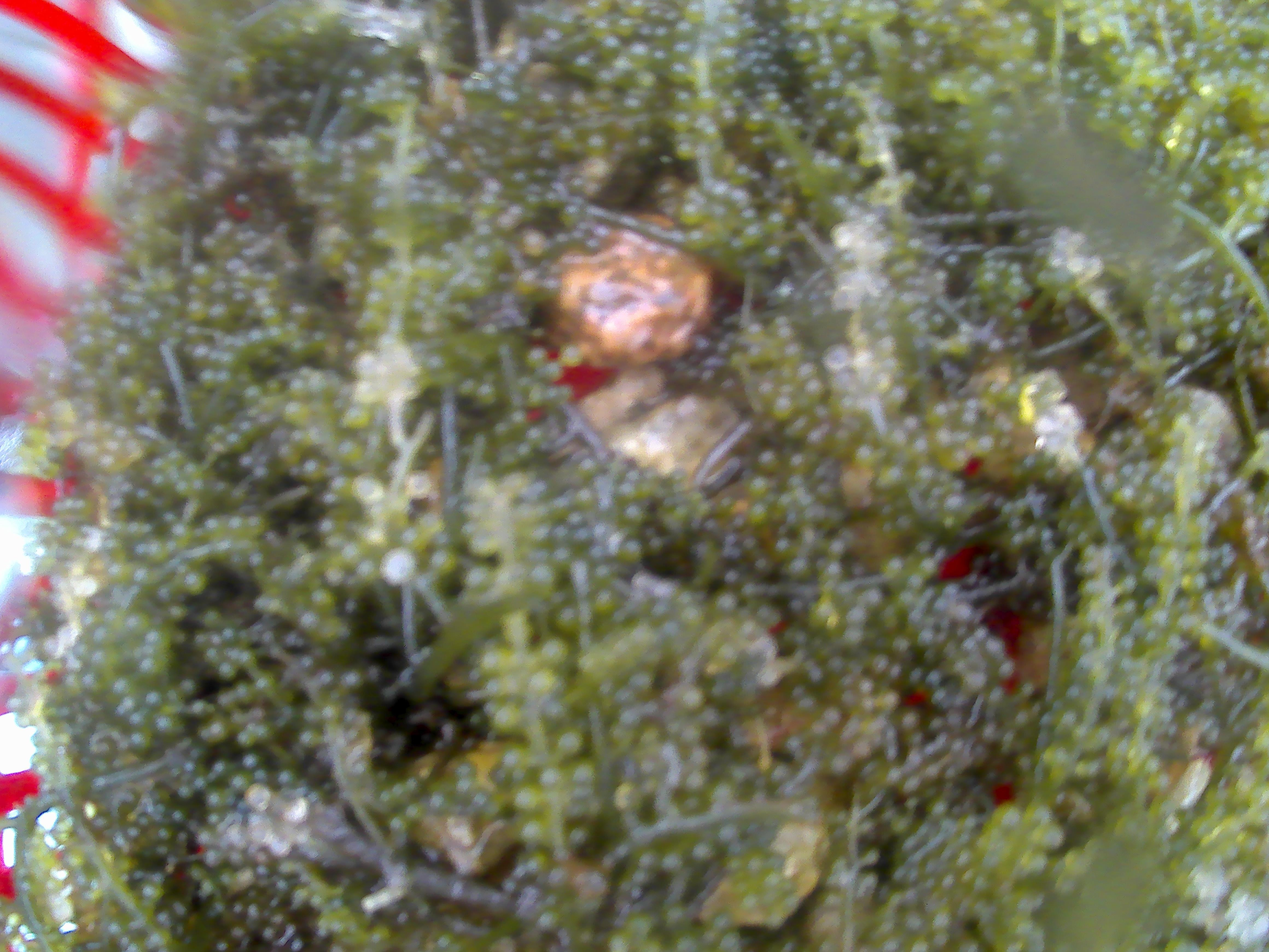Darkening: (894, 512, 918, 537), (698, 706, 722, 730), (929, 929, 951, 950), (890, 635, 911, 655), (869, 655, 888, 675), (898, 711, 919, 729), (857, 676, 875, 695), (948, 709, 961, 730), (982, 723, 998, 739), (724, 569, 739, 584), (929, 716, 941, 731)
Harvestable: (510, 780, 545, 813), (552, 724, 585, 757), (490, 702, 522, 735), (539, 634, 571, 666), (991, 802, 1023, 832), (1038, 821, 1066, 850), (569, 757, 598, 785), (876, 463, 905, 490), (284, 400, 311, 427), (662, 903, 690, 929), (466, 564, 494, 590), (430, 549, 458, 575), (660, 845, 686, 872), (203, 718, 230, 744), (125, 609, 151, 635), (1133, 515, 1159, 541), (555, 606, 580, 632), (680, 686, 706, 711), (629, 668, 655, 693), (744, 849, 769, 874), (902, 909, 927, 934), (340, 542, 365, 567), (711, 779, 736, 804), (680, 604, 705, 628), (530, 563, 556, 586), (538, 908, 562, 932), (668, 62, 692, 86), (184, 571, 208, 595), (684, 770, 708, 794), (714, 591, 738, 614), (358, 558, 381, 582), (1078, 24, 1102, 47), (638, 846, 661, 870), (692, 840, 715, 863), (747, 502, 770, 525), (719, 930, 743, 952), (89, 647, 111, 671), (540, 765, 564, 787), (312, 587, 335, 609), (697, 88, 719, 111), (971, 184, 993, 206), (341, 668, 363, 690), (1111, 55, 1133, 77), (787, 558, 809, 580), (150, 927, 173, 948), (1114, 486, 1137, 507), (1176, 332, 1198, 353), (202, 608, 223, 630), (404, 802, 426, 823), (569, 825, 591, 846), (712, 911, 734, 932), (619, 707, 641, 728), (187, 299, 208, 321), (956, 847, 977, 869), (718, 822, 739, 843), (629, 42, 650, 63), (614, 685, 635, 706), (973, 873, 993, 895), (622, 540, 642, 562), (843, 626, 864, 646), (636, 69, 657, 89), (624, 504, 644, 525), (725, 855, 747, 874), (1115, 103, 1135, 123), (509, 409, 529, 429), (676, 141, 696, 161), (92, 626, 112, 646), (826, 655, 846, 675), (326, 565, 345, 586), (862, 0, 882, 19), (575, 488, 594, 508), (218, 661, 237, 680), (916, 628, 935, 647), (686, 0, 706, 18), (676, 20, 694, 39), (662, 620, 681, 638), (594, 564, 612, 583), (632, 868, 651, 886), (627, 0, 647, 17), (673, 40, 693, 57), (179, 678, 197, 696), (204, 647, 222, 665), (806, 378, 824, 396), (301, 611, 319, 629), (1102, 472, 1119, 490), (290, 378, 307, 396), (804, 15, 821, 32), (476, 222, 493, 238), (1065, 69, 1082, 85), (603, 34, 620, 50), (295, 135, 311, 152), (913, 31, 929, 47), (145, 691, 161, 706), (178, 783, 193, 799), (243, 754, 258, 768), (845, 0, 863, 11), (171, 809, 185, 823), (254, 769, 267, 782)
Whitening: (244, 783, 272, 811), (405, 471, 433, 499), (387, 551, 414, 580), (354, 475, 381, 503), (282, 796, 306, 824), (822, 346, 846, 371), (248, 813, 271, 839), (831, 224, 854, 248), (73, 576, 96, 597), (1054, 403, 1075, 425), (1045, 430, 1066, 451), (852, 351, 872, 371), (41, 637, 60, 658), (852, 239, 870, 260), (357, 350, 374, 372), (1050, 227, 1070, 245), (1067, 254, 1085, 273), (868, 243, 886, 261), (1048, 250, 1067, 267), (832, 290, 849, 308), (1085, 257, 1102, 275), (271, 839, 289, 855), (1035, 416, 1052, 432), (1069, 231, 1084, 247), (83, 537, 98, 552)
